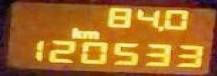-: (156, 25, 163, 31)
0: (78, 40, 106, 63), (162, 9, 187, 29)
1: (32, 39, 44, 60)
2: (45, 40, 75, 63)
3: (143, 42, 170, 65), (175, 44, 202, 67)
4: (135, 8, 159, 27)
5: (111, 42, 138, 65)
8: (107, 7, 131, 28)
X: (81, 30, 99, 39), (69, 27, 81, 39)
